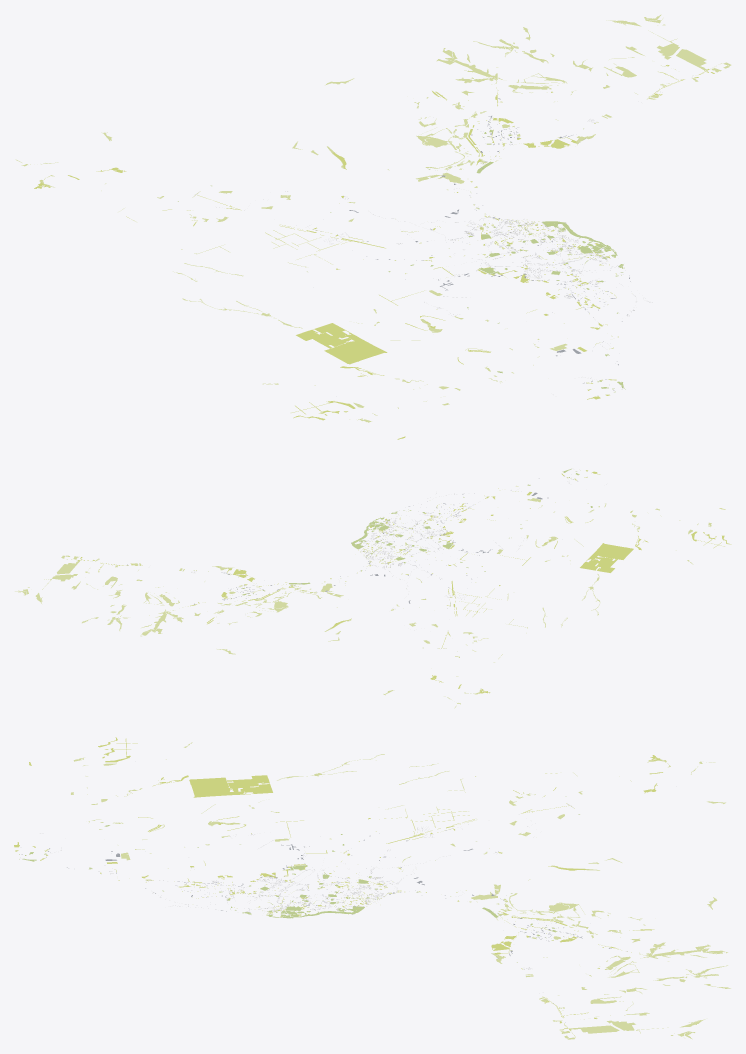
The model's file is TILE_04_00_REST_BATCH_09.glb.
The picture shows the model from 3 angles, top to bottom: view 1: azimuth 30°, elevation 25°; view 2: azimuth 150°, elevation 25°; view 3: azimuth 270°, elevation 25°; orthographic projection. The views are drawn at different scales.
Visible parts, largest first — view 1: WEB_landuse_fo, WEB_natural_he, WEB_natural_gr, WEB_leisure_pa, WEB_landuse_ga, WEB_natural_we; view 2: WEB_landuse_fo, WEB_natural_he, WEB_natural_gr, WEB_leisure_pa, WEB_landuse_ga; view 3: WEB_landuse_fo, WEB_natural_he, WEB_natural_gr, WEB_leisure_pa, WEB_landuse_ga, WEB_natural_we, WEB_landuse_co.
Part boxes in pixels (<box>): WEB_landuse_fo: <box>34,19,721,439</box>; WEB_natural_he: <box>15,14,731,408</box>; WEB_natural_gr: <box>40,20,706,422</box>; WEB_leisure_pa: <box>178,122,625,392</box>; WEB_landuse_ga: <box>336,65,708,399</box>; WEB_natural_we: <box>339,24,698,415</box>; WEB_landuse_fo: <box>18,486,731,694</box>; WEB_natural_he: <box>15,485,692,708</box>; WEB_natural_gr: <box>35,505,711,695</box>; WEB_leisure_pa: <box>208,468,592,651</box>; WEB_landuse_ga: <box>81,470,600,610</box>; WEB_landuse_fo: <box>29,737,692,1037</box>; WEB_natural_he: <box>85,761,727,1039</box>; WEB_natural_gr: <box>71,742,730,1033</box>; WEB_leisure_pa: <box>19,794,579,962</box>; WEB_landuse_ga: <box>14,794,599,1028</box>; WEB_natural_we: <box>83,765,706,1035</box>; WEB_landuse_co: <box>44,829,526,969</box>.
Bounding box in the file's own units: 623 × 0.0076 × 625.
